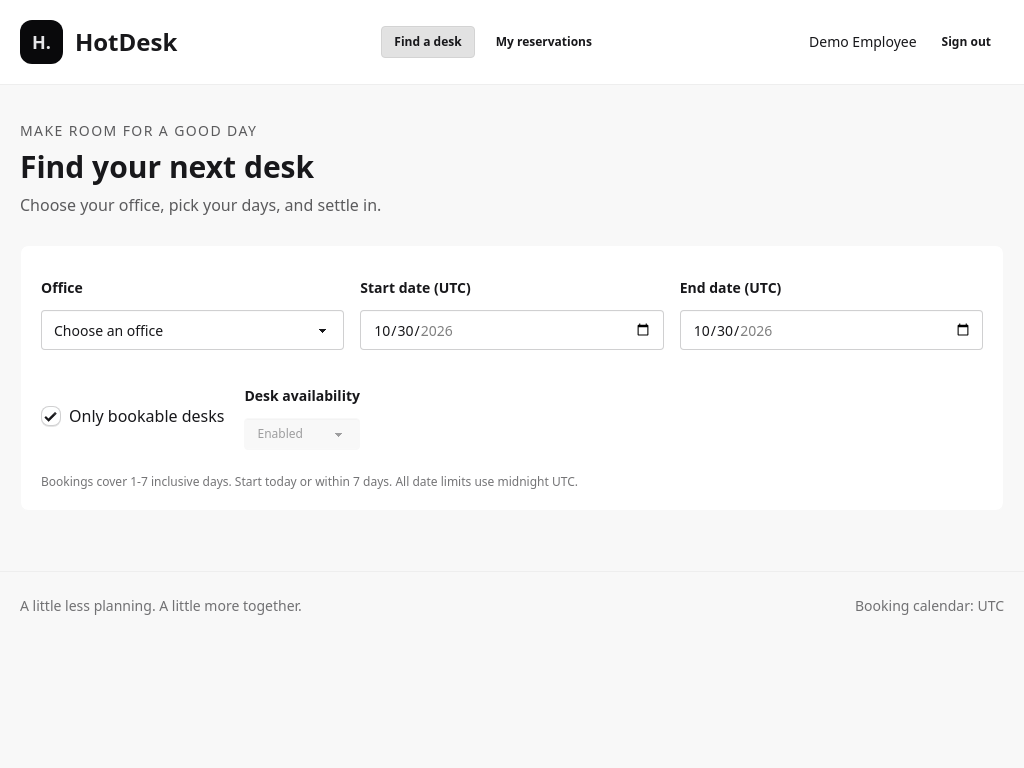
returns from reservations to desk search when the logo is clicked
Expected: the dropdown labelled "Office" is shown, [41,310,344,350]
Click the link "My reservations": (544, 42) [483,26,605,58]
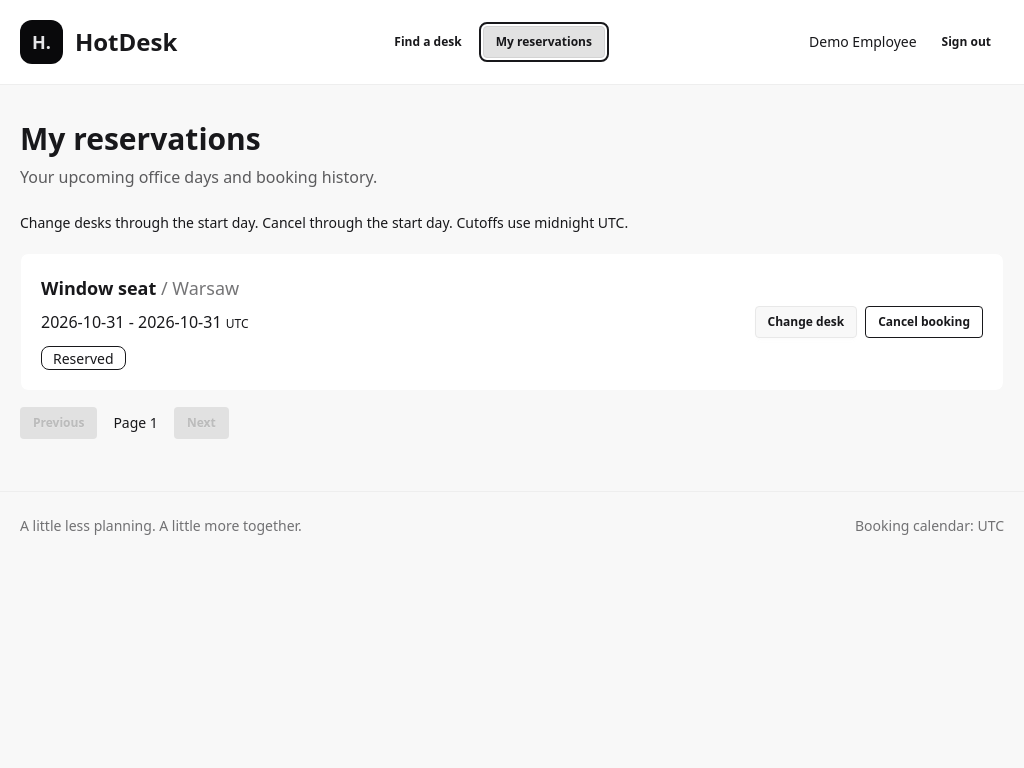
Now the heading "My reservations" is shown, box [20,118,261,159]
Click the link "H. HotDesk": (99, 42) [20,20,177,64]
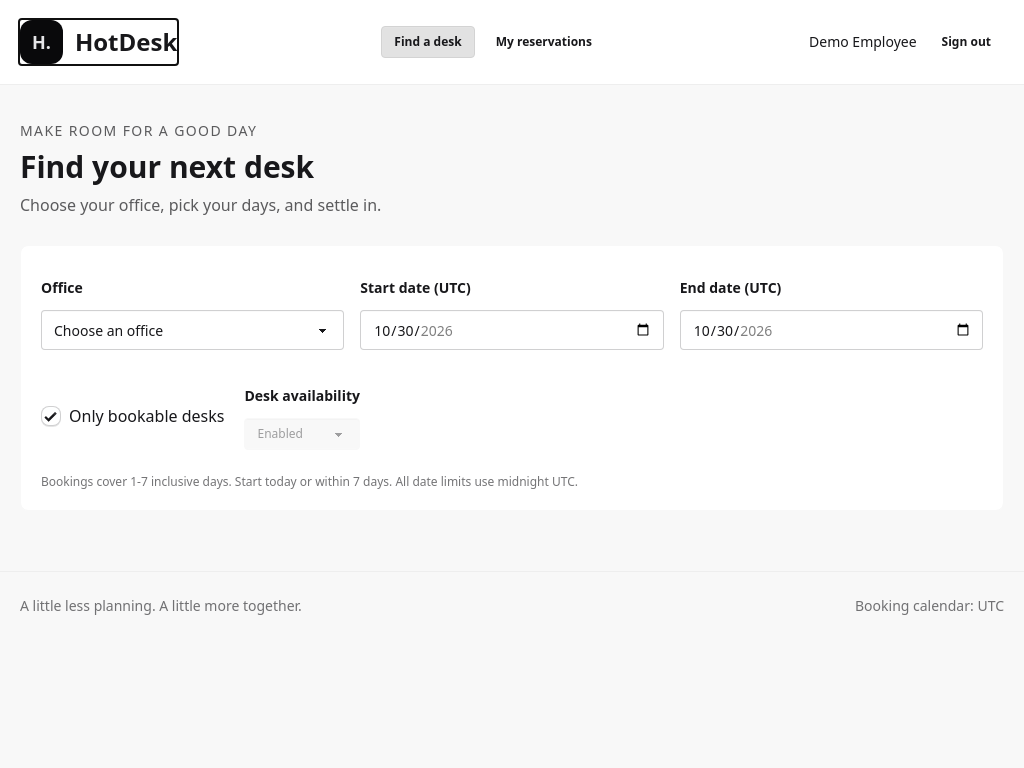
Now the dropdown labelled "Office" is shown, box [41,310,344,350]
